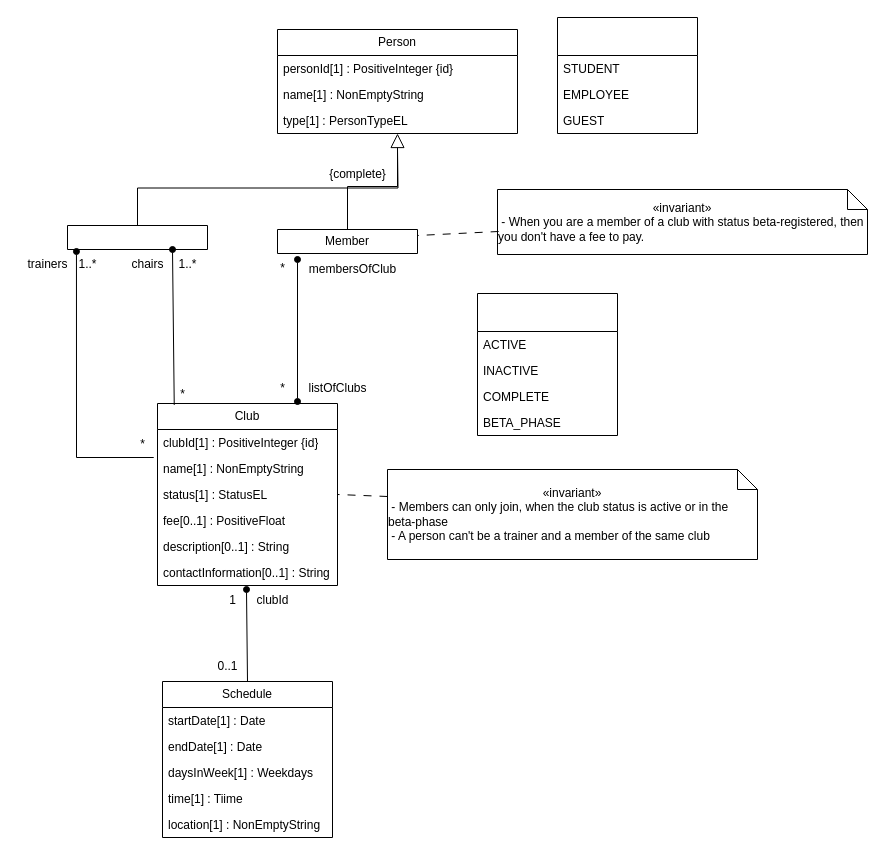
Image size: 885x858. Some labels were removed from this diagram. The box of each missing label's shape, as (x1, y1, x2, y2) in pixels:
Staff: (66, 224, 208, 250)
«enumaration» PersonTypeEL: (556, 16, 698, 134)
«enumaration» StatusEL: (476, 292, 618, 436)
